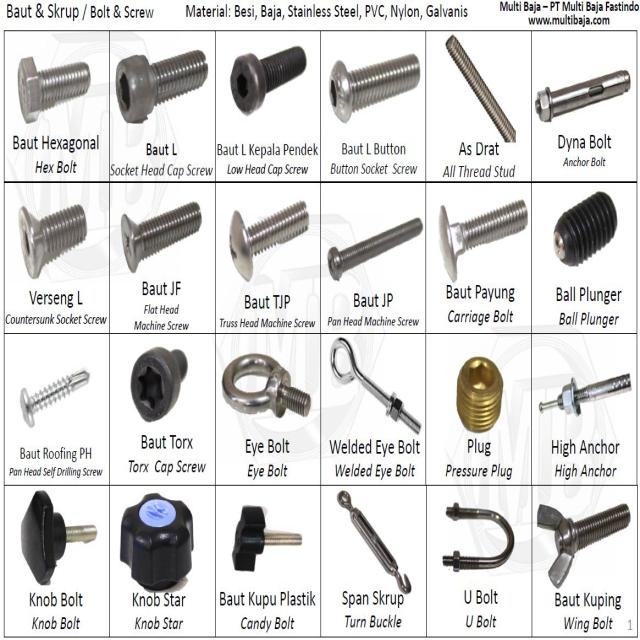Logam: (324, 331, 431, 446), (334, 483, 427, 609), (536, 490, 640, 602), (110, 43, 214, 153), (324, 195, 424, 299), (431, 34, 520, 150), (536, 44, 634, 146), (537, 347, 640, 438), (116, 486, 202, 593), (430, 194, 534, 282), (221, 40, 319, 132), (218, 345, 317, 435), (231, 489, 319, 587), (440, 346, 515, 455), (434, 490, 522, 582), (224, 192, 314, 281), (14, 352, 101, 443), (11, 44, 98, 132), (15, 487, 105, 569), (118, 342, 191, 440), (117, 197, 205, 273), (328, 44, 399, 135), (555, 185, 629, 272), (14, 200, 93, 278)
